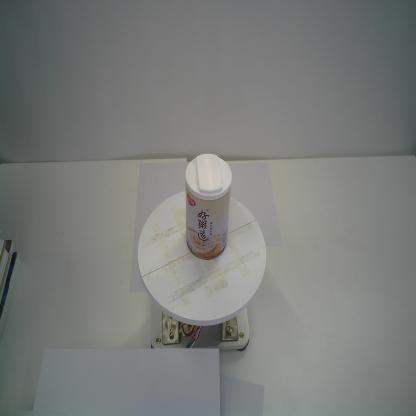Canned Food: (183, 150, 233, 262)
